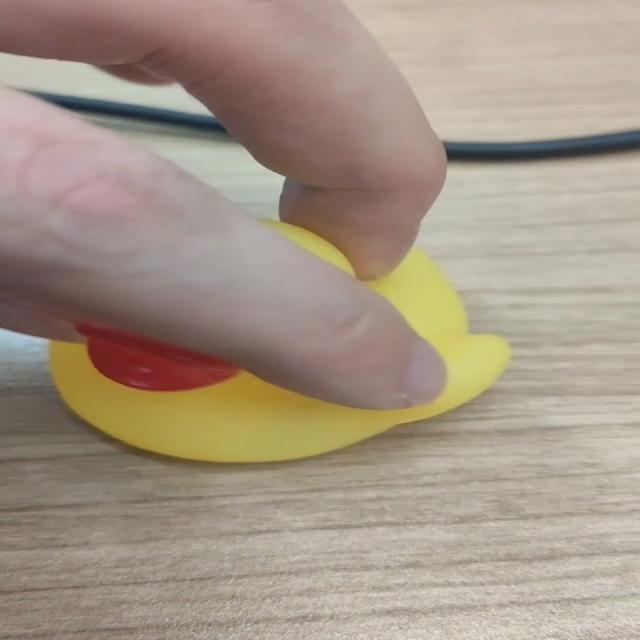rubber-duck: (49, 248, 508, 460), (264, 220, 350, 270)
